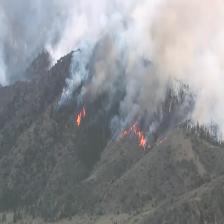smoke: (66, 1, 222, 88)
